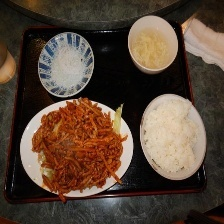rice: (139, 96, 208, 180)
